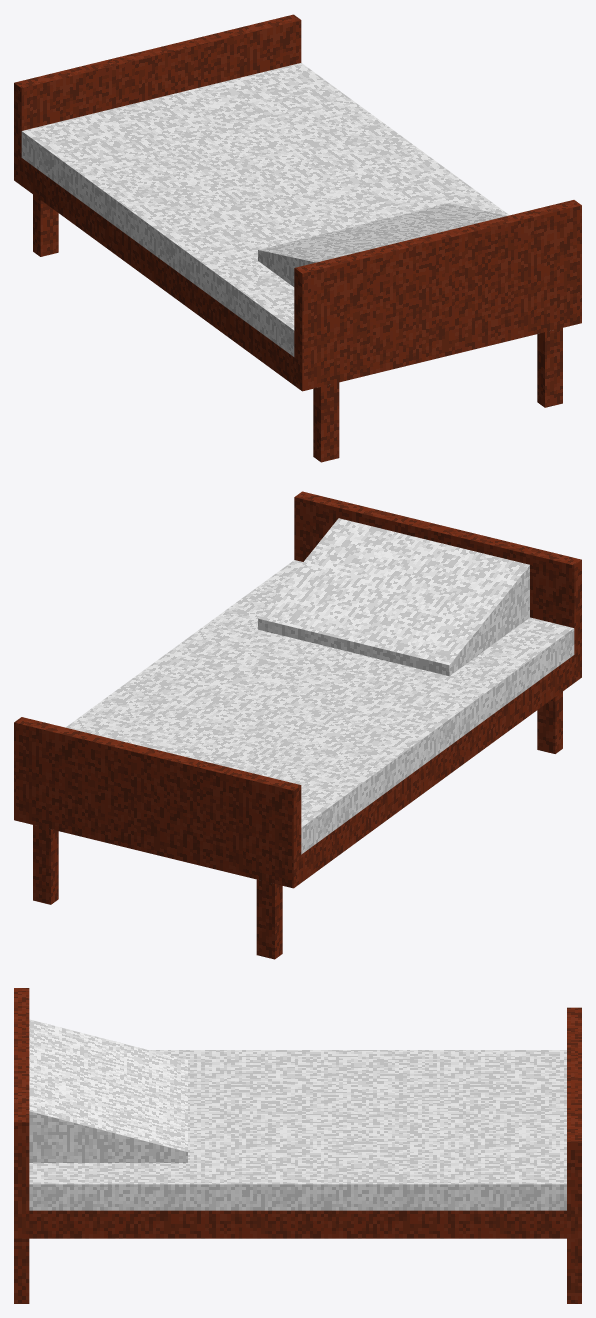
The model's file is BLOCKYGON_BED1.fbx.
3 views of the same model, one above another, from view 1: azimuth 30°, elevation 25°; view 2: azimuth 150°, elevation 25°; view 3: azimuth 270°, elevation 25° (orthographic).
Visible parts, largest first — view 1: BLOCKYGON_BED1; view 2: BLOCKYGON_BED1; view 3: BLOCKYGON_BED1.
Boxes of the visible parts, x1,y1,x2,y2 form: BLOCKYGON_BED1: (14, 14, 581, 462); BLOCKYGON_BED1: (14, 491, 581, 959); BLOCKYGON_BED1: (14, 988, 581, 1303).
Bounding box in the file's own units: 133 × 87.97 × 238.
